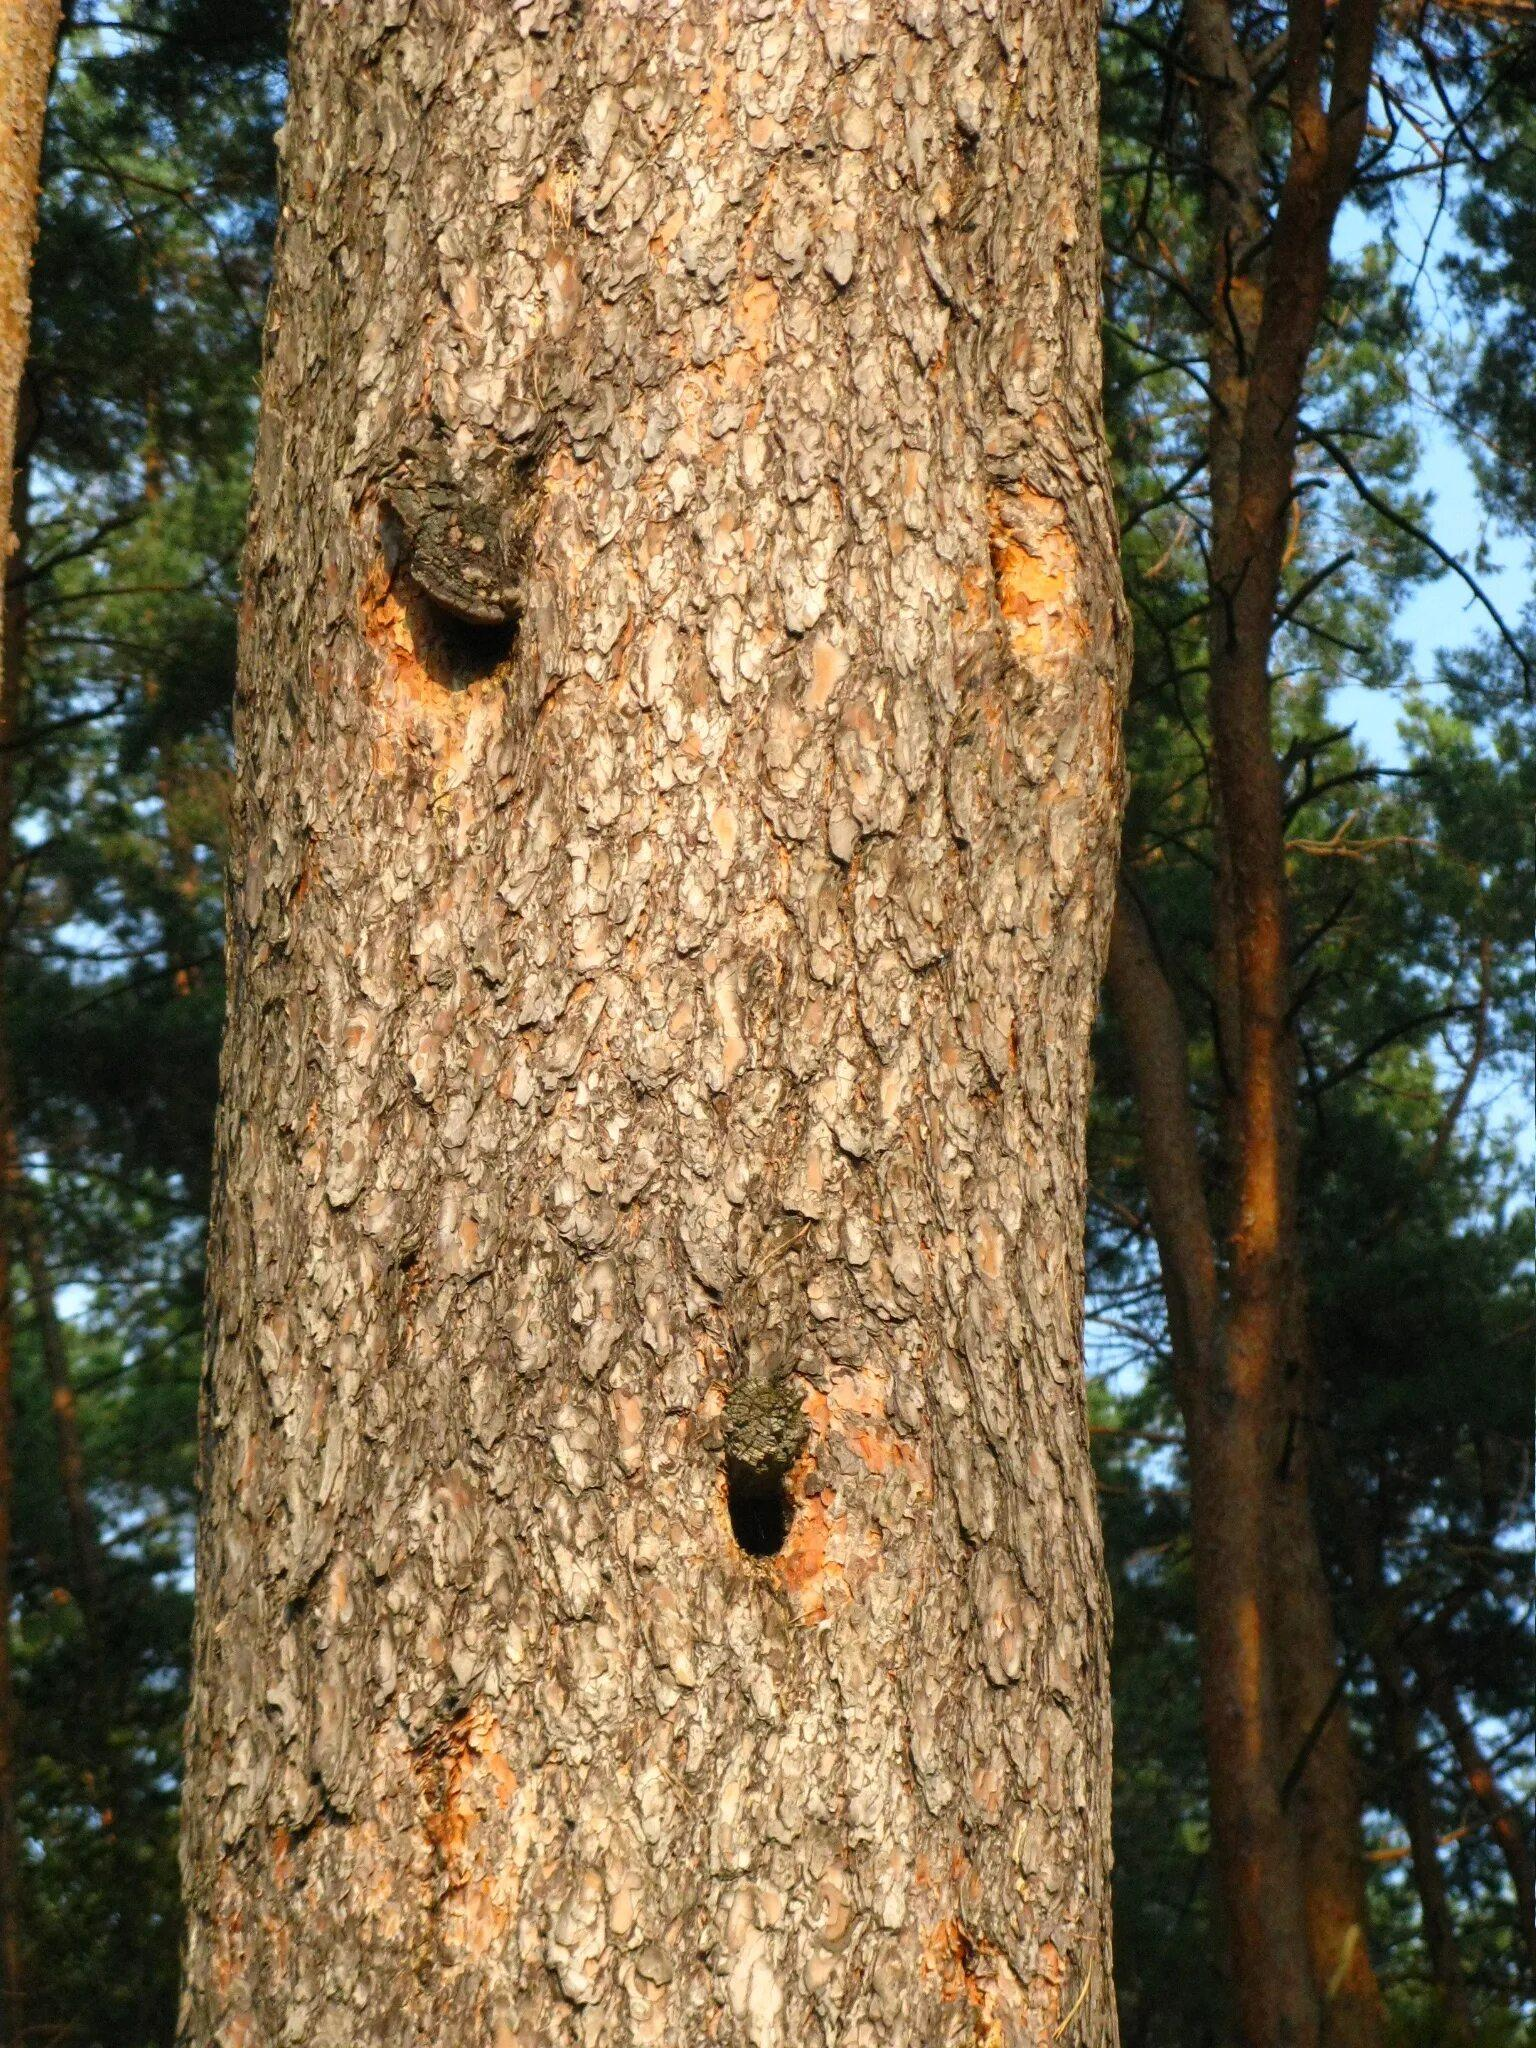hollow: (366, 514, 549, 713), (728, 1459, 792, 1558)
